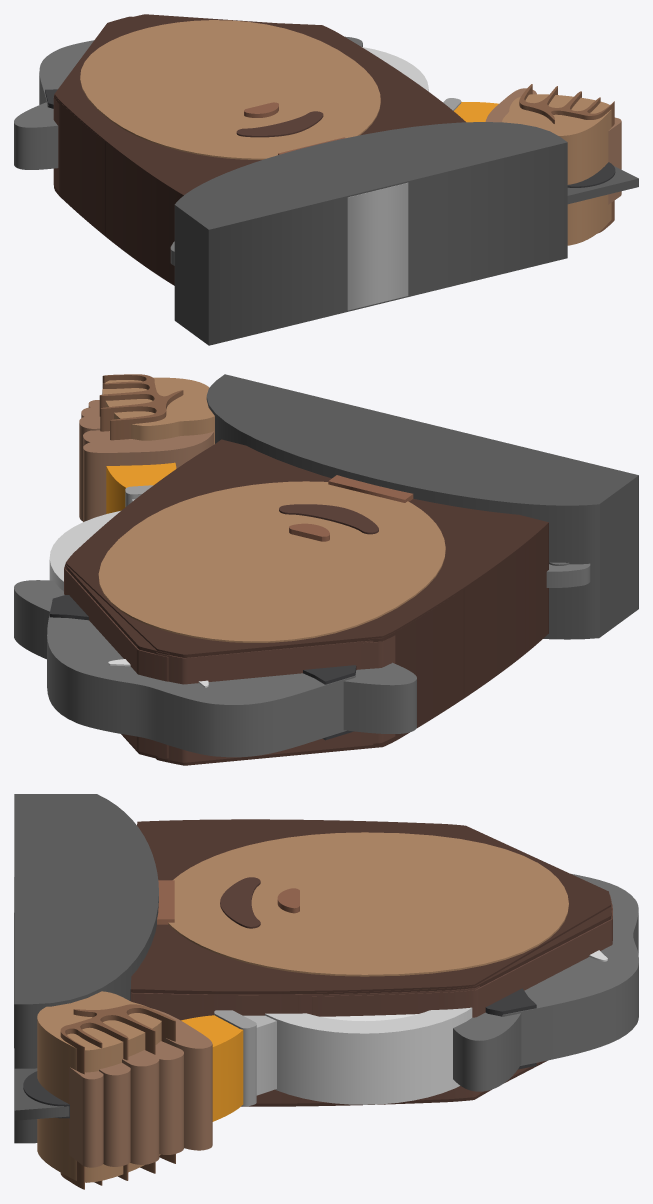
The model's file is emoji_u1f575_1f3fd_200d_2640.glb.
3 views of the same model, one above another, from view 1: azimuth 30°, elevation 25°; view 2: azimuth 150°, elevation 25°; view 3: azimuth 270°, elevation 25° (orthographic). The views are drawn at different scales.
Visible parts, largest first — view 1: emoji_u1f575_1f3fd_200d_2640; view 2: emoji_u1f575_1f3fd_200d_2640; view 3: emoji_u1f575_1f3fd_200d_2640.
Boxes of the visible parts, x1=… form: emoji_u1f575_1f3fd_200d_2640: x1=14, y1=14, x2=638, y2=345; emoji_u1f575_1f3fd_200d_2640: x1=14, y1=374, x2=638, y2=765; emoji_u1f575_1f3fd_200d_2640: x1=14, y1=794, x2=638, y2=1189.
Bounding box in the file's own units: 0.0328 × 0.0084 × 0.0334.
